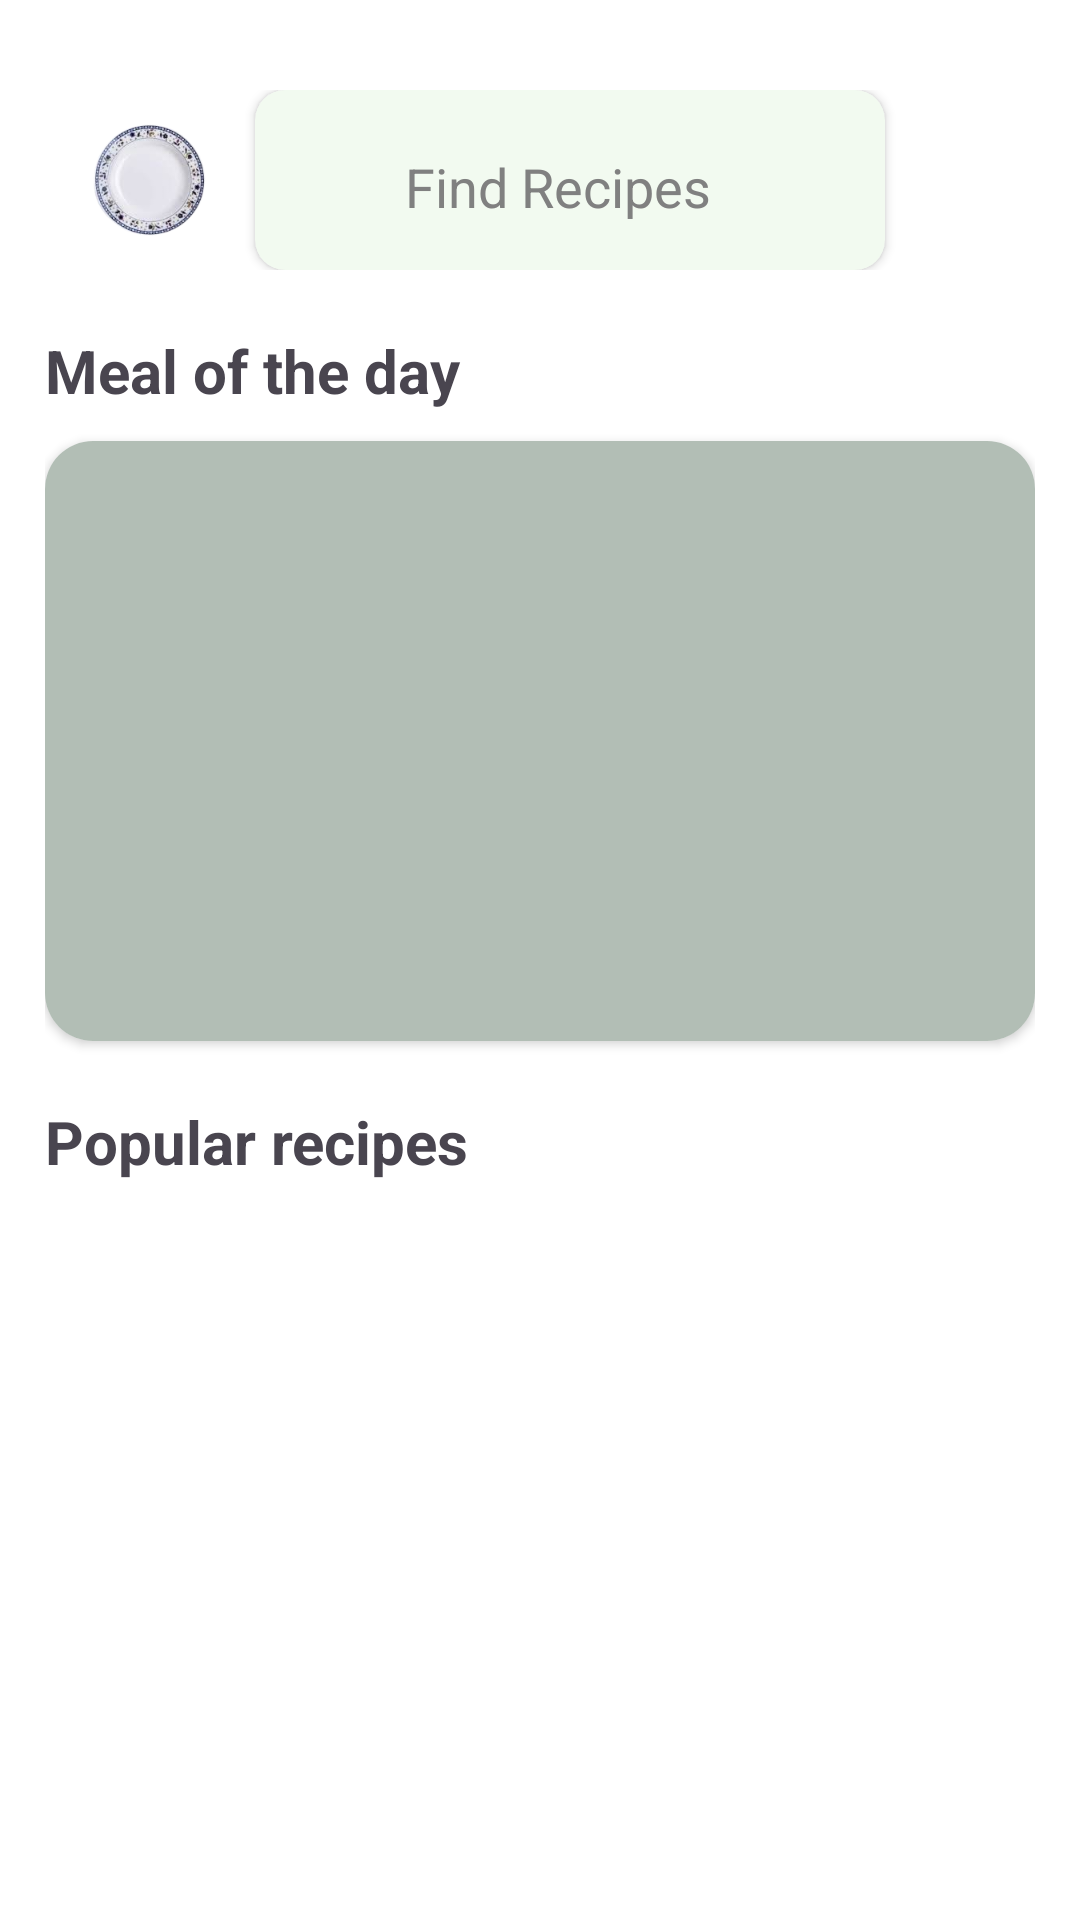

Where icons sit on this 1080*1920 app screen, as [x1=x1, y1=y1, x2=x2, y2=y2]:
plate: [x1=95, y1=125, x2=205, y2=235]
